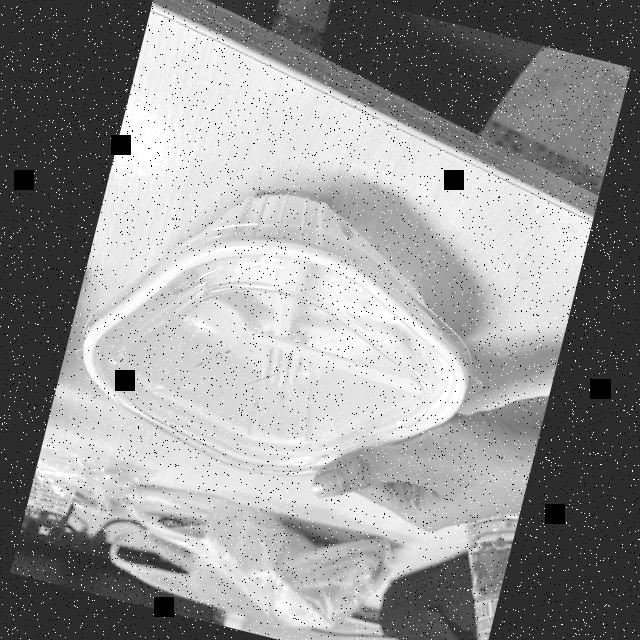plastic_box: (50, 144, 516, 529)
